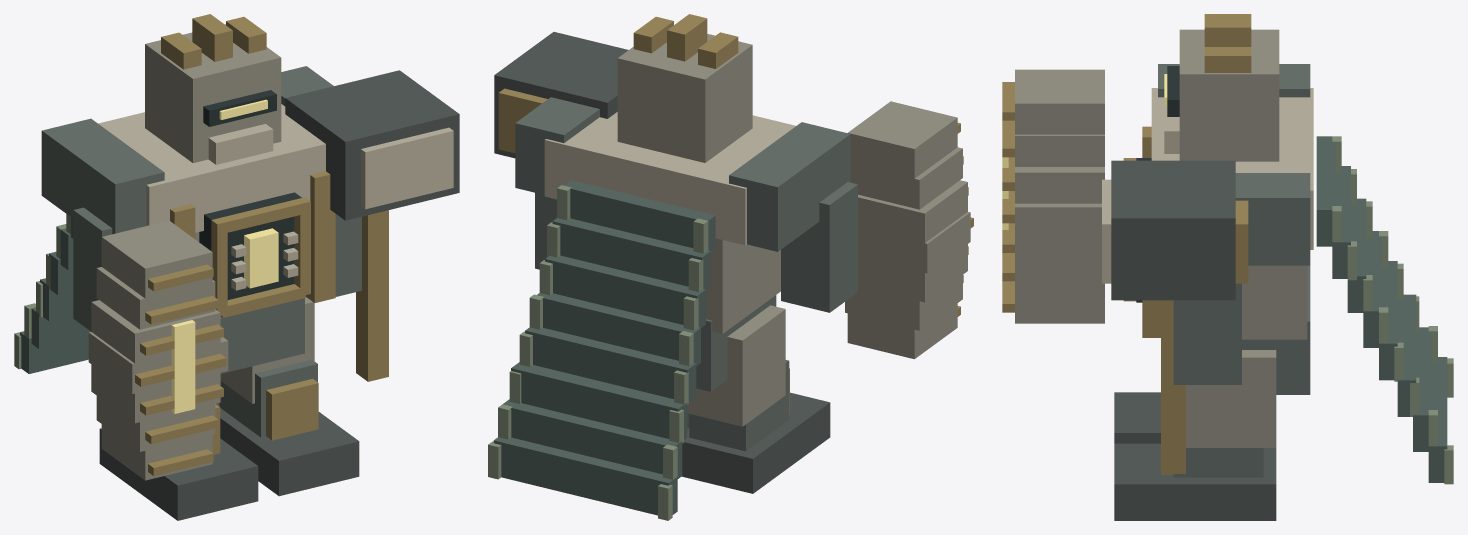
The model's file is sanctuary_warden.glb.
3 renders of one model, left to right at view 1: azimuth 30°, elevation 25°; view 2: azimuth 150°, elevation 25°; view 3: azimuth 270°, elevation 25°, orthographic. The views are drawn at different scales.
Parts seen in each view (by area): view 1: sanctuary_warden/shield, sanctuary_warden/torso, sanctuary_warden/hammer, sanctuary_warden/head, sanctuary_warden/locomotion_shin_1, sanctuary_warden/core, sanctuary_warden/locomotion_shin_-1, sanctuary_warden/mantle, sanctuary_warden/pelvis, sanctuary_warden/shield_arm, sanctuary_warden/hammer_arm, sanctuary_warden/locomotion_thigh_1; view 2: sanctuary_warden/mantle, sanctuary_warden/torso, sanctuary_warden/shield, sanctuary_warden/head, sanctuary_warden/locomotion_shin_-1, sanctuary_warden/hammer, sanctuary_warden/shield_arm, sanctuary_warden/locomotion_thigh_-1, sanctuary_warden/pelvis, sanctuary_warden/hammer_arm; view 3: sanctuary_warden/shield, sanctuary_warden/hammer, sanctuary_warden/mantle, sanctuary_warden/torso, sanctuary_warden/head, sanctuary_warden/locomotion_shin_1, sanctuary_warden/locomotion_thigh_1, sanctuary_warden/hammer_arm, sanctuary_warden/pelvis, sanctuary_warden/locomotion_shin_-1.
Boxes of the visible parts, box(x1,y1,x2,y2) form: sanctuary_warden/shield: box(88, 220, 228, 480); sanctuary_warden/torso: box(41, 66, 335, 318); sanctuary_warden/hammer: box(285, 70, 459, 381); sanctuary_warden/head: box(145, 14, 281, 164); sanctuary_warden/locomotion_shin_1: box(219, 359, 359, 496); sanctuary_warden/core: box(199, 192, 310, 317); sanctuary_warden/locomotion_shin_-1: box(99, 403, 258, 520); sanctuary_warden/mantle: box(14, 214, 90, 373); sanctuary_warden/pelvis: box(220, 298, 304, 373); sanctuary_warden/shield_arm: box(73, 207, 112, 331); sanctuary_warden/hammer_arm: box(335, 214, 361, 296); sanctuary_warden/locomotion_thigh_1: box(220, 297, 314, 403); sanctuary_warden/mantle: box(488, 180, 715, 520); sanctuary_warden/torso: box(515, 97, 850, 333); sanctuary_warden/shield: box(845, 101, 973, 359); sanctuary_warden/head: box(617, 14, 752, 162); sanctuary_warden/locomotion_shin_-1: box(682, 360, 830, 493); sanctuary_warden/hammer: box(494, 32, 628, 158); sanctuary_warden/shield_arm: box(781, 182, 857, 312); sanctuary_warden/locomotion_thigh_-1: box(687, 305, 785, 426); sanctuary_warden/pelvis: box(696, 295, 776, 391); sanctuary_warden/hammer_arm: box(535, 193, 556, 269); sanctuary_warden/shield: box(1002, 69, 1104, 323); sanctuary_warden/hammer: box(1102, 160, 1248, 473); sanctuary_warden/mantle: box(1316, 136, 1453, 484); sanctuary_warden/torso: box(1142, 64, 1313, 339); sanctuary_warden/head: box(1164, 14, 1279, 161); sanctuary_warden/locomotion_shin_1: box(1114, 443, 1276, 520); sanctuary_warden/locomotion_thigh_1: box(1186, 350, 1276, 447); sanctuary_warden/hammer_arm: box(1173, 283, 1241, 384); sanctuary_warden/pelvis: box(1242, 265, 1310, 394); sanctuary_warden/locomotion_shin_-1: box(1114, 392, 1160, 443).
Size of the model in its own units: 4.5 by 5 by 4.53.
